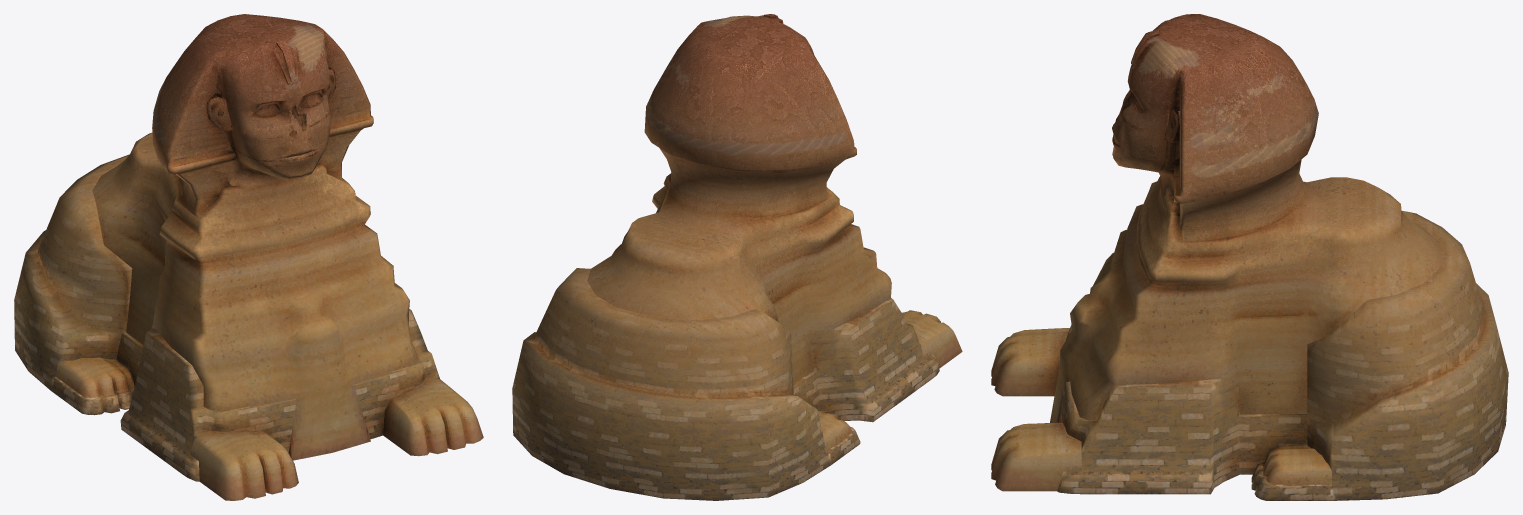
File: Sfinge.fbx
3 renders of one model, left to right at view 1: azimuth 30°, elevation 25°; view 2: azimuth 150°, elevation 25°; view 3: azimuth 270°, elevation 25°, orthographic. The views are drawn at different scales.
Visible parts, largest first — view 1: SphinxQuizBalance__BodyMat; view 2: SphinxQuizBalance__BodyMat; view 3: SphinxQuizBalance__BodyMat.
Part boxes in pixels (x1,y1,x2,y2): SphinxQuizBalance__BodyMat: (14, 14, 483, 500); SphinxQuizBalance__BodyMat: (512, 14, 962, 500); SphinxQuizBalance__BodyMat: (991, 14, 1508, 500).
Bounding box in the file's own units: 227 × 275 × 327.
1 material, 1 textured.
